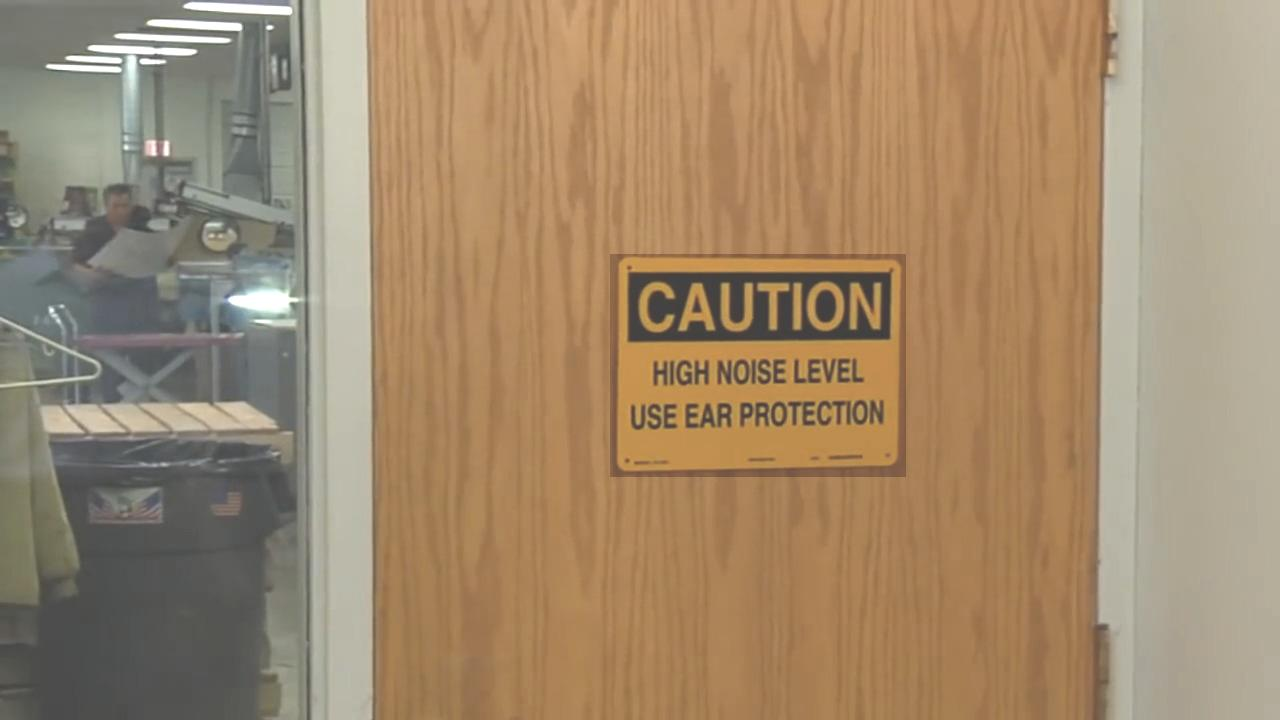safety_signage: (611, 255, 907, 478)
